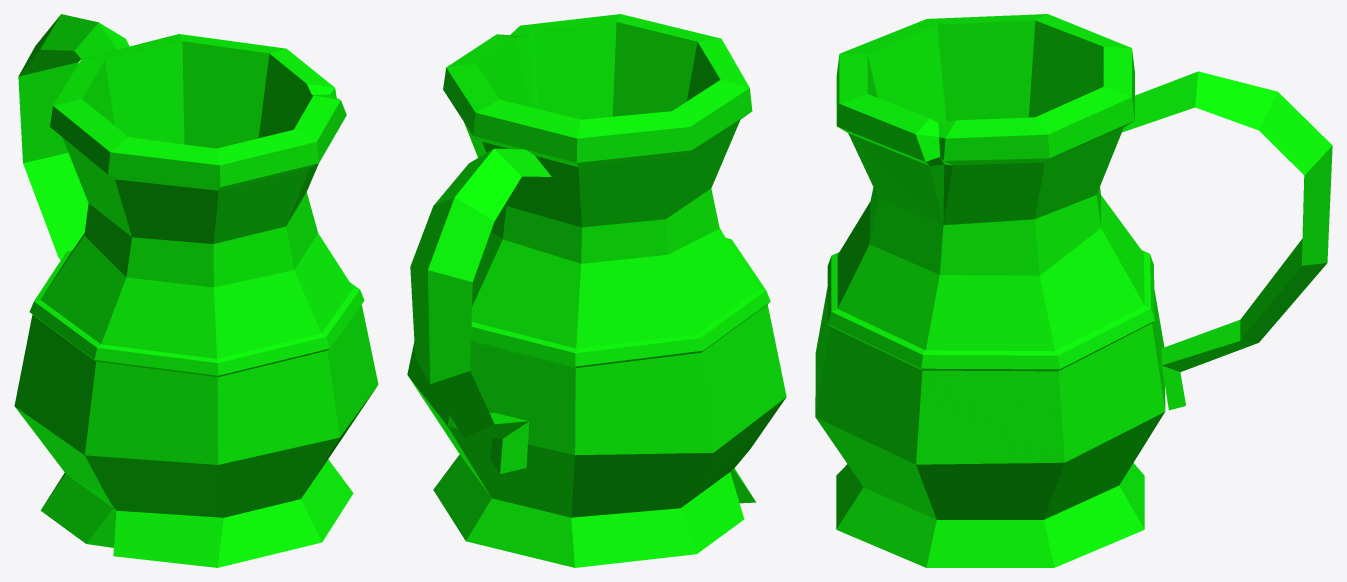
File: SM_Beer_Glass_Metal_B_Fantasy.fbx
The picture shows the model from 3 angles, left to right: view 1: azimuth 30°, elevation 25°; view 2: azimuth 150°, elevation 25°; view 3: azimuth 270°, elevation 25°; orthographic projection. The views are drawn at different scales.
Visible parts, largest first — view 1: beer-glass-metal-b-fantasy; view 2: beer-glass-metal-b-fantasy; view 3: beer-glass-metal-b-fantasy.
Boxes of the visible parts, x1=… form: beer-glass-metal-b-fantasy: x1=14, y1=14, x2=378, y2=567; beer-glass-metal-b-fantasy: x1=407, y1=14, x2=786, y2=567; beer-glass-metal-b-fantasy: x1=815, y1=14, x2=1332, y2=567.
Size of the model in its own units: 0.1074 by 0.144 by 0.1548.
